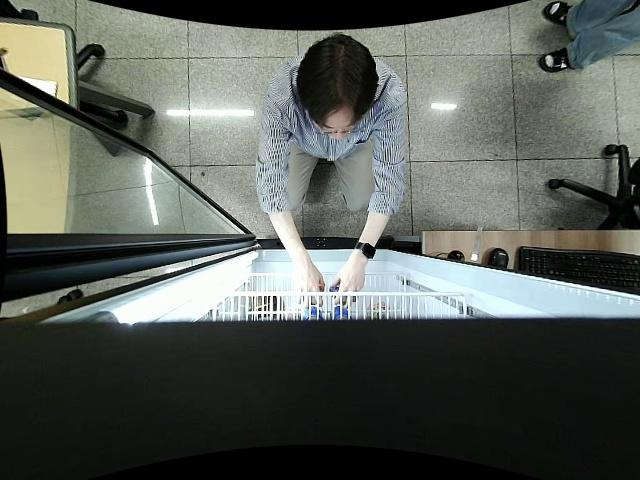00_hand: (291, 263, 326, 312), (329, 268, 365, 310)
